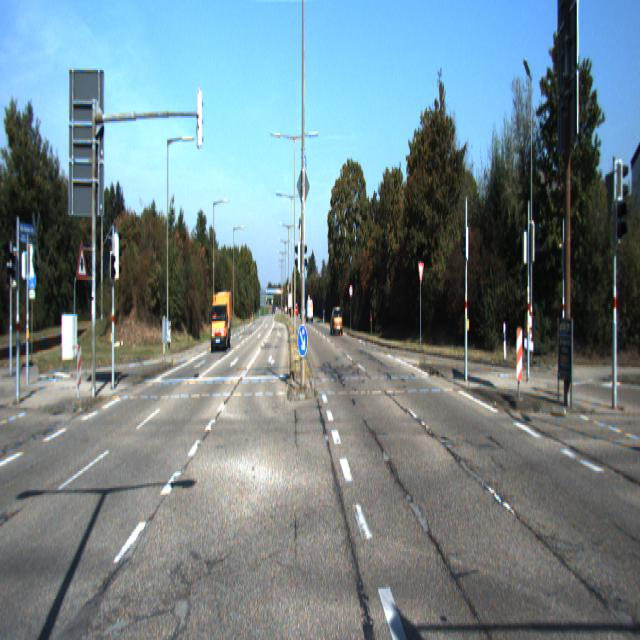Car: (207, 290, 232, 355), (331, 306, 343, 336)
